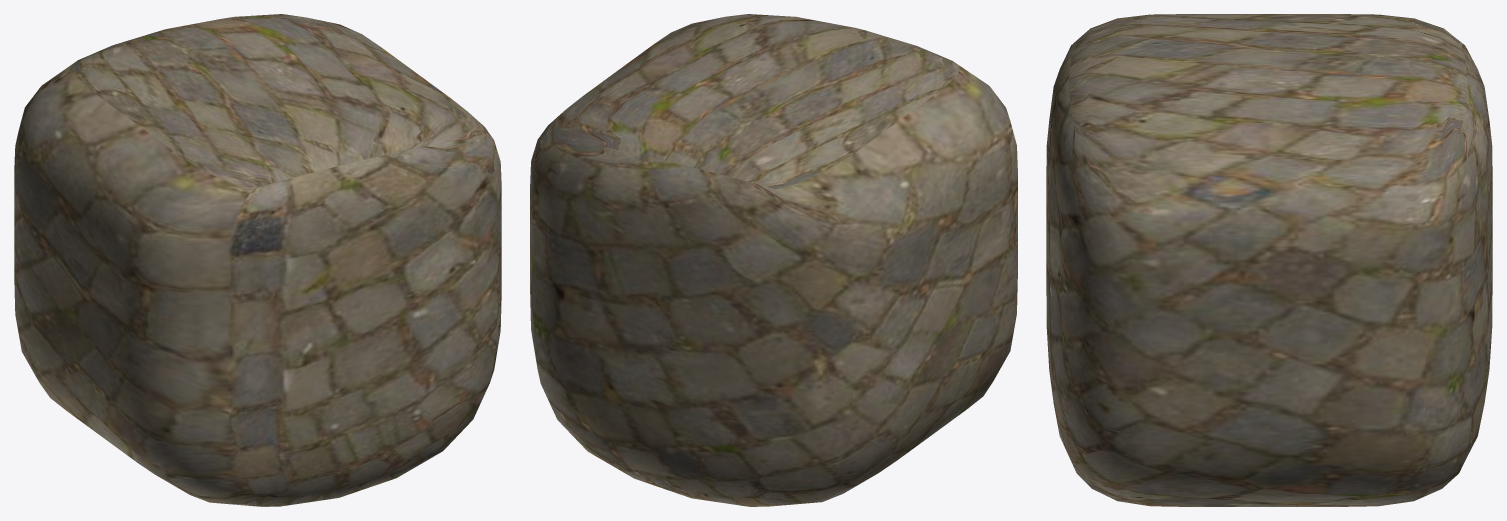
The model's file is quit.glb.
3 views of the same model, side by side, from view 1: azimuth 30°, elevation 25°; view 2: azimuth 150°, elevation 25°; view 3: azimuth 270°, elevation 25° (orthographic). The views are drawn at different scales.
Parts seen in each view (by area): view 1: Cube; view 2: Cube; view 3: Cube.
Boxes of the visible parts, <box> form: Cube: <box>14,14,501,506</box>; Cube: <box>530,14,1017,506</box>; Cube: <box>1046,14,1492,506</box>.
Bounding box in the file's own units: 2 × 1.94 × 1.94.
Materials: 1 (1 with a texture image).
